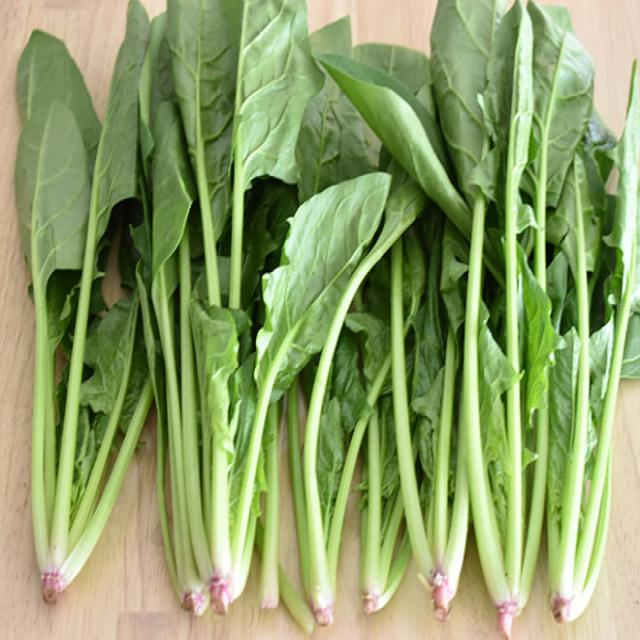Wet Waste: (97, 0, 393, 628), (372, 0, 632, 637), (11, 3, 204, 616), (312, 0, 489, 629)
